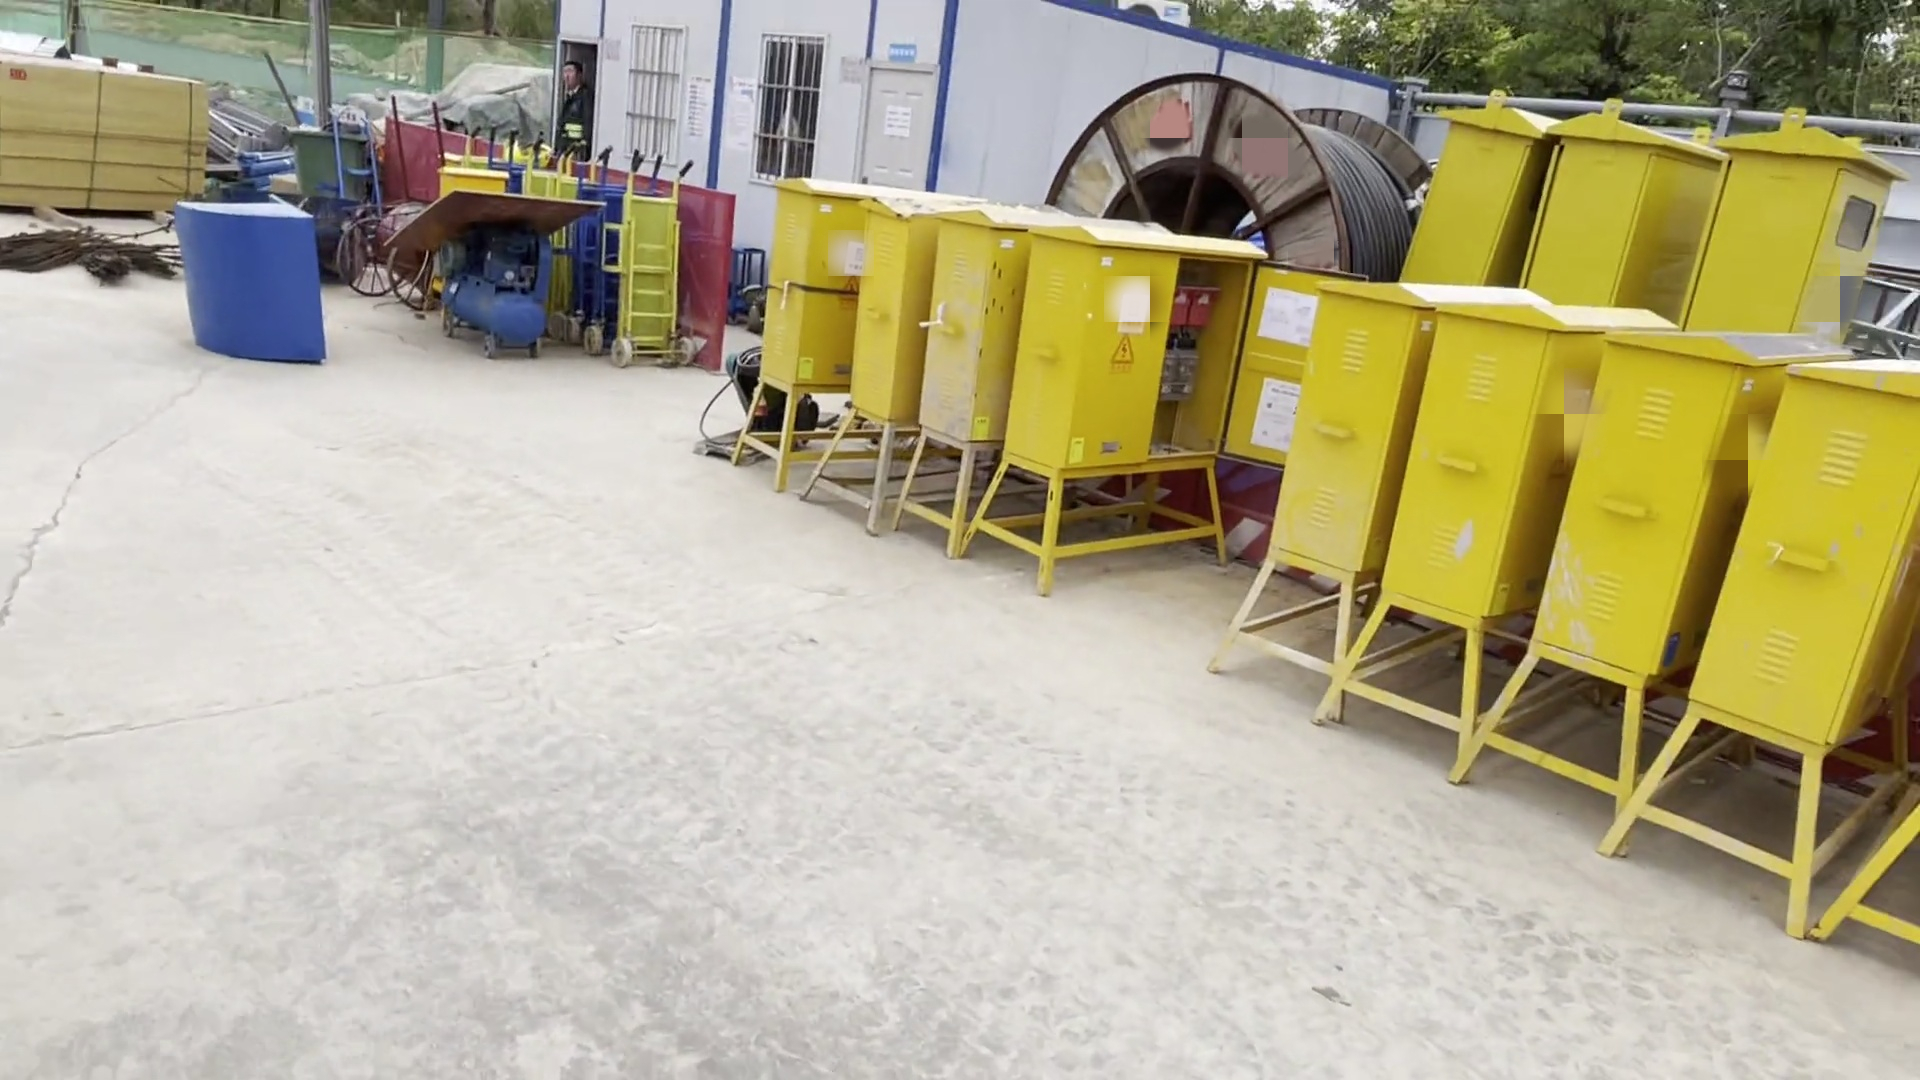ebox: (1456, 323, 1836, 778), (1309, 305, 1679, 733), (1611, 363, 1920, 848), (961, 237, 1279, 579), (1197, 291, 1441, 713), (878, 204, 1027, 539), (733, 167, 872, 516), (1515, 107, 1746, 313), (796, 171, 930, 520), (1697, 123, 1913, 319), (1394, 98, 1564, 287)
handcart: (345, 96, 454, 315)
